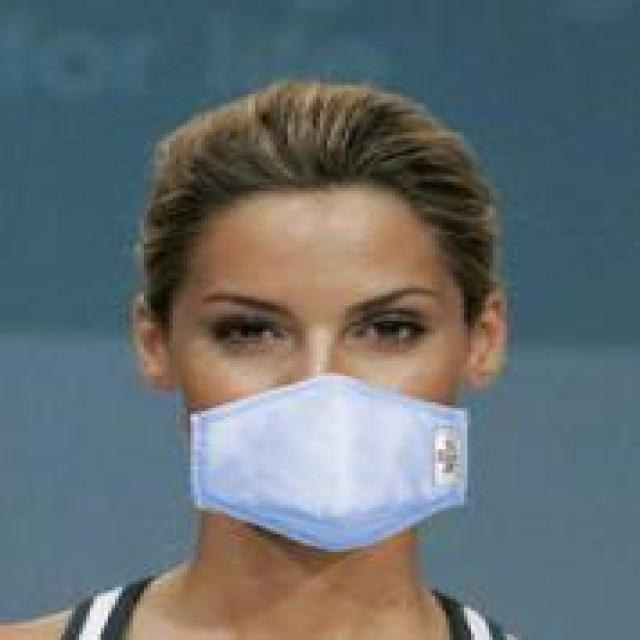mask: (147, 112, 500, 526)
